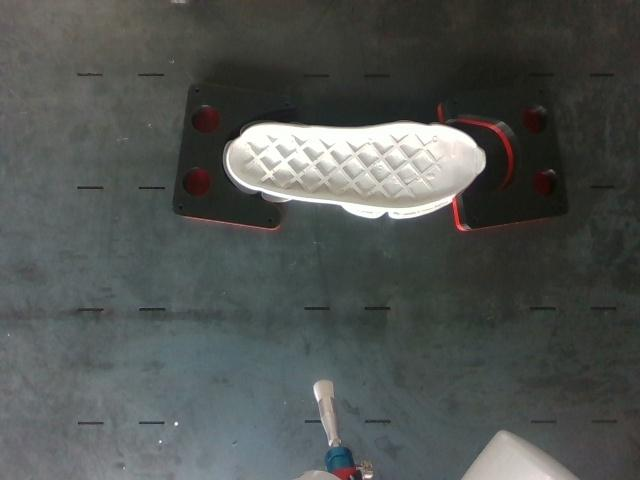shoes: (228, 123, 483, 210)
